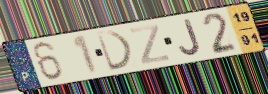1: (72, 33, 99, 77)
2: (201, 12, 239, 56)
6: (32, 40, 65, 83)
D: (94, 29, 135, 73)
J: (178, 18, 203, 57)
Z: (128, 22, 172, 66)
